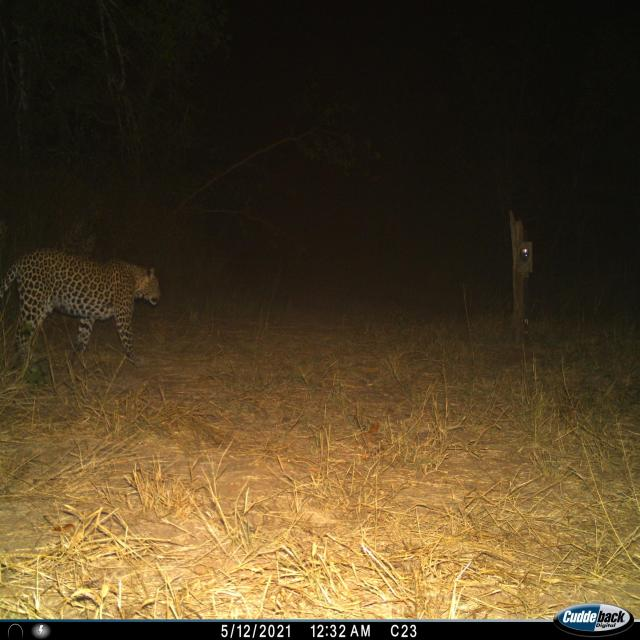Leopard: (0, 236, 166, 384)
